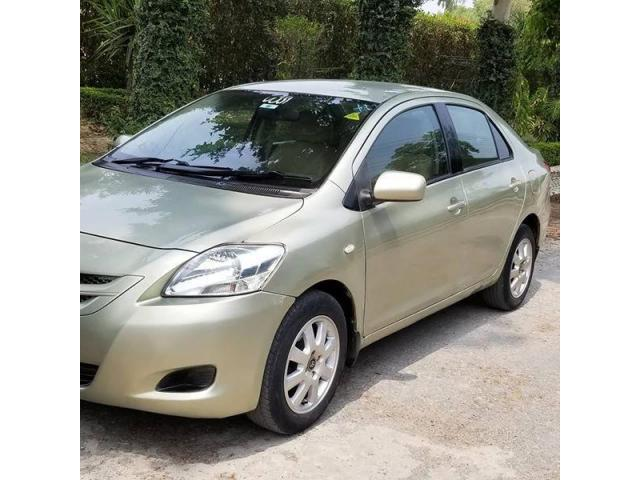windshield: (92, 84, 388, 199)
